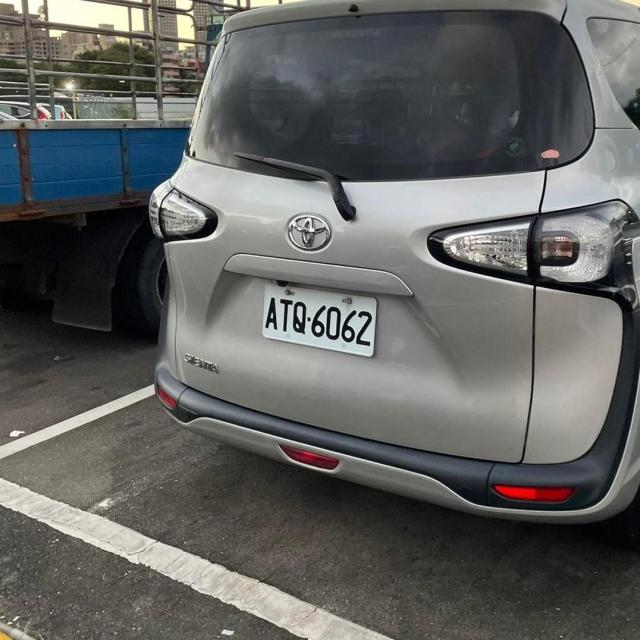W: (256, 277, 386, 361)
